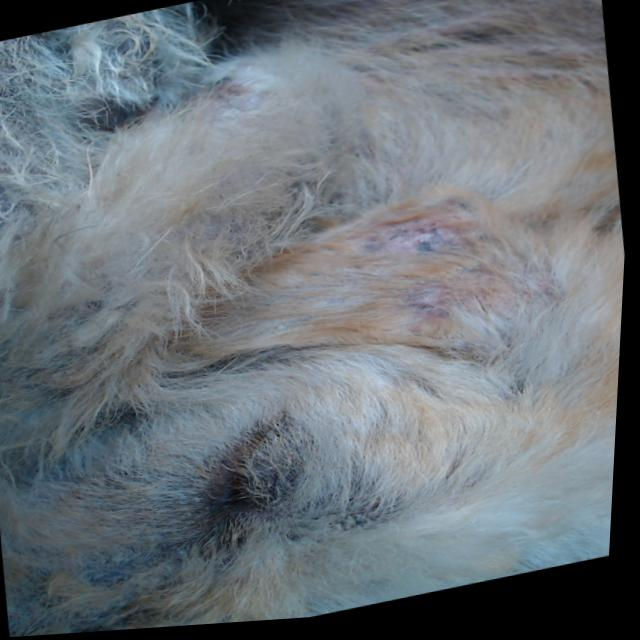demodicosis: (367, 219, 480, 334), (193, 68, 268, 140)
